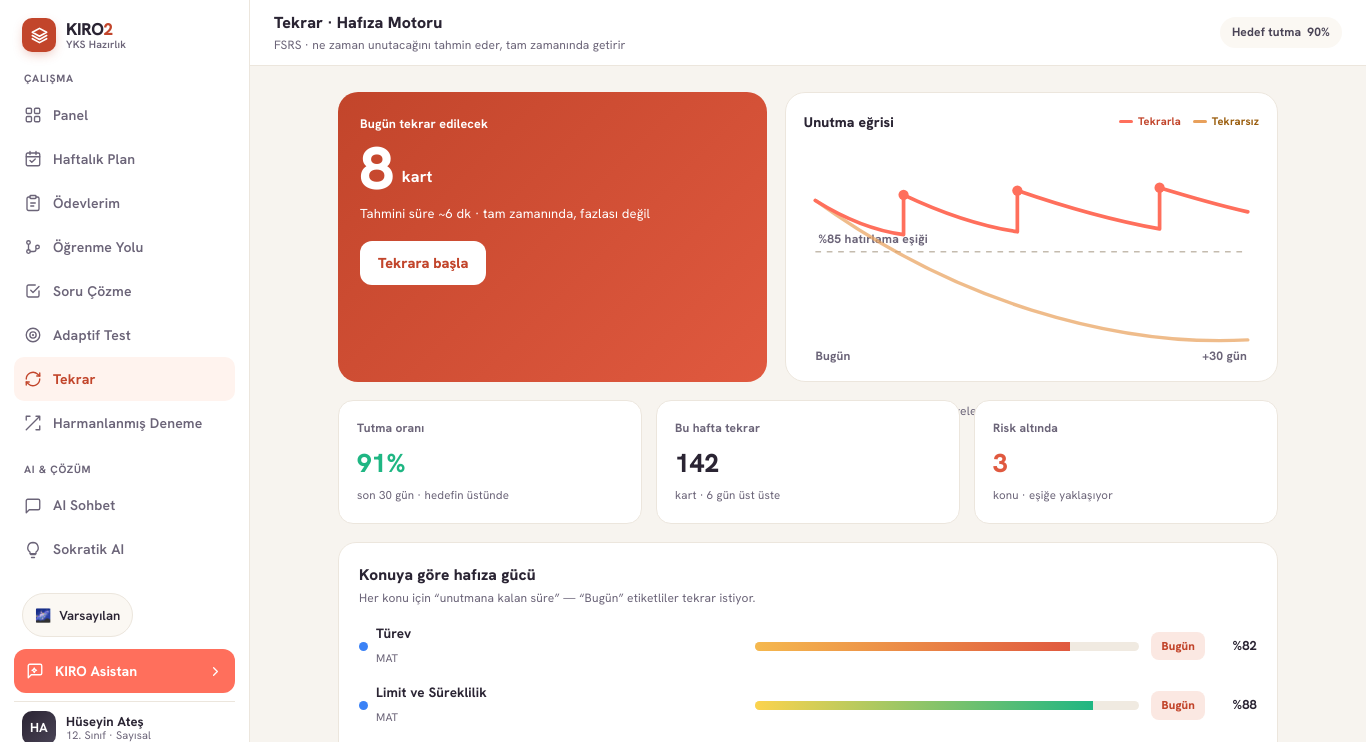
Test: FSRSPage › overlay: Tekrara başla → SORU → Cevabı göster → 4 derece butonu
Expected: the text "Bugün tekrar edilecek" is shown, [360,115,488,132]
Click the button "Tekrara başla": (423, 263) [360,241,486,285]
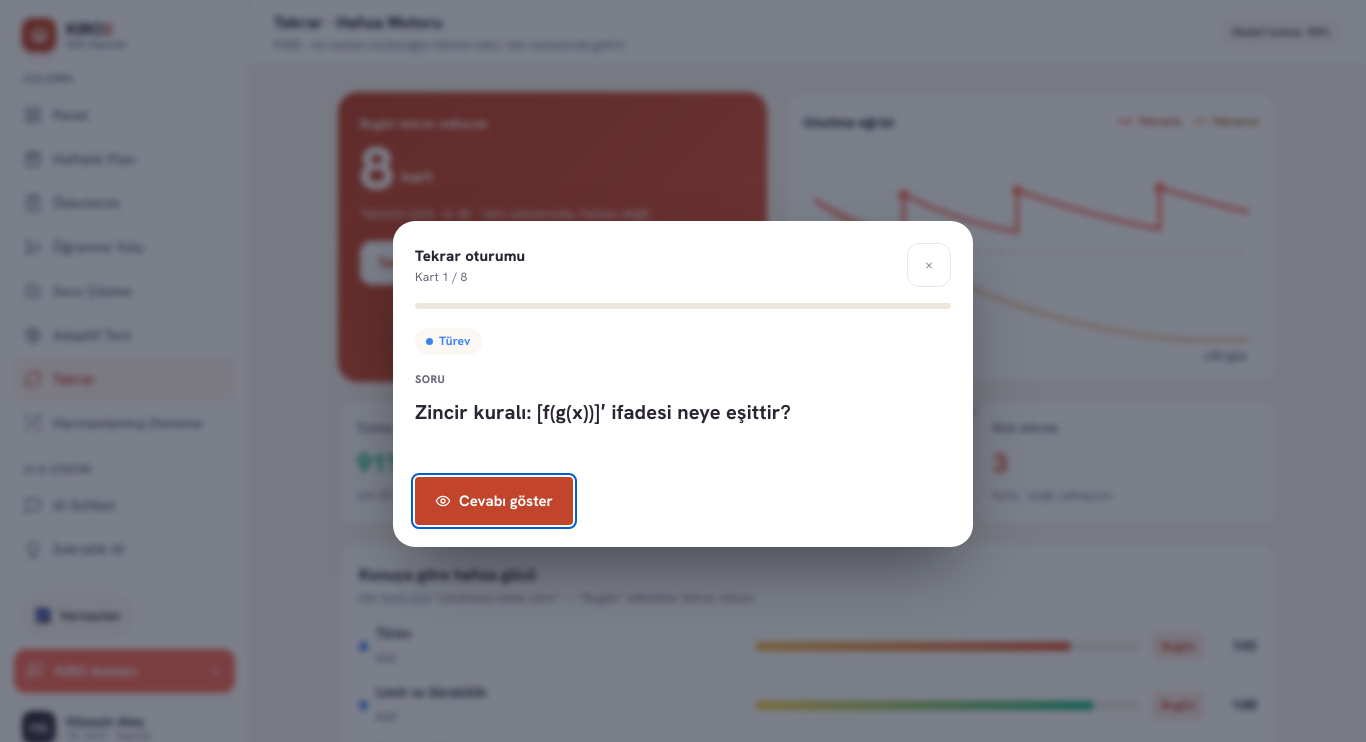
Expected: the text "SORU" is shown, [415,372,445,386]
Click the button "Cevabı göster": (494, 501) [415,477,573,525]
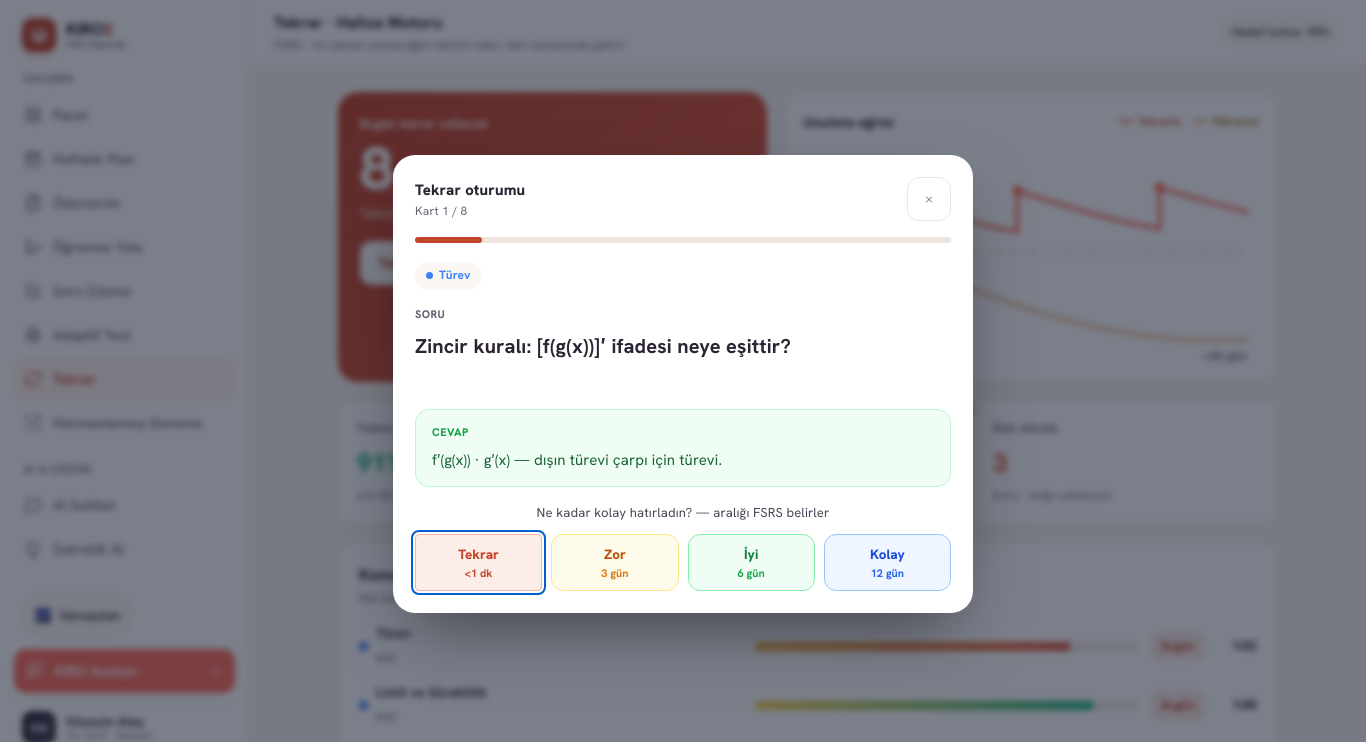
Expected: the text "CEVAP" is shown, [432,425,469,439]
Expected: the button "Tekrar <1 dk" is shown, [415,534,542,590]
Expected: the button "Zor 3 gün" is shown, [551,534,679,590]
